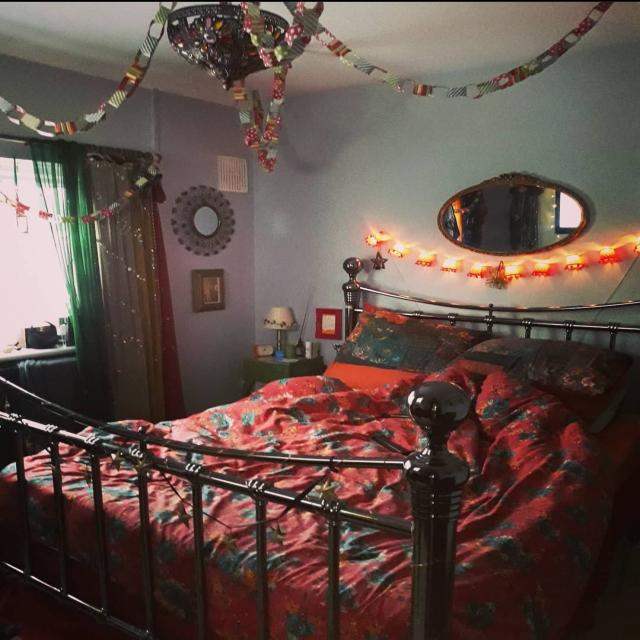bed: (0, 314, 633, 608)
